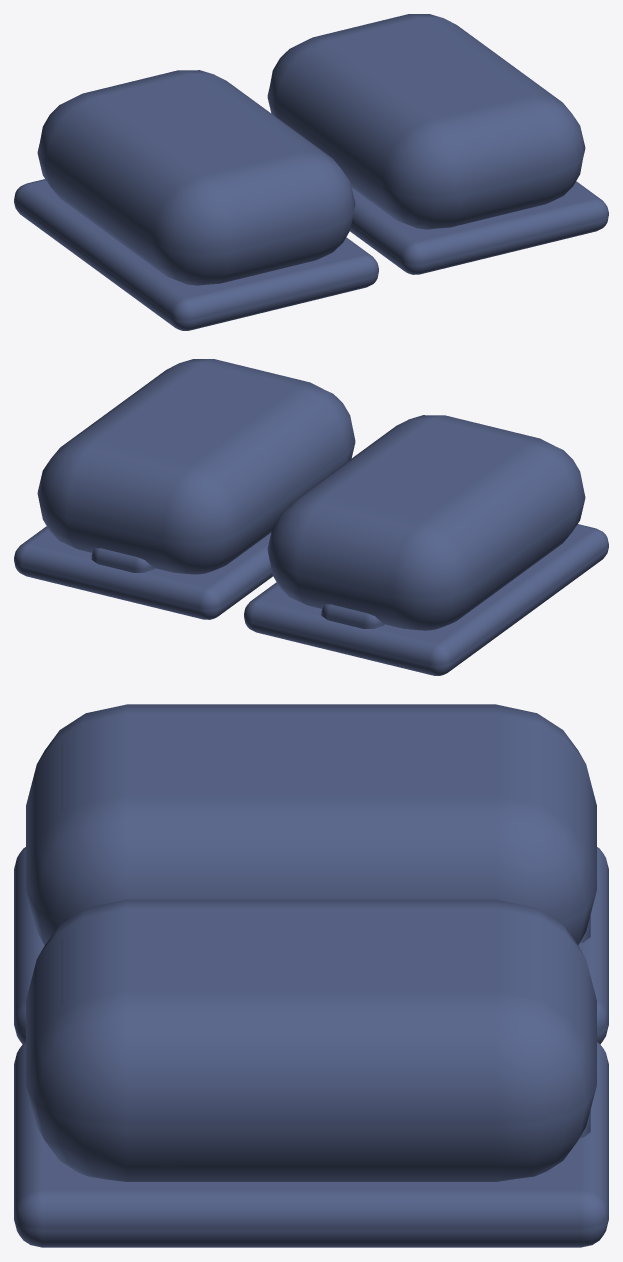
Rendered from ballet_slippers.glb.
The picture shows the model from 3 angles, top to bottom: view 1: azimuth 30°, elevation 25°; view 2: azimuth 150°, elevation 25°; view 3: azimuth 270°, elevation 25°; orthographic projection. The views are drawn at different scales.
Visible parts, largest first — view 1: ballet_slippers_LegL, ballet_slippers_LegR; view 2: ballet_slippers_LegL, ballet_slippers_LegR; view 3: ballet_slippers_LegR, ballet_slippers_LegL.
Boxes of the visible parts, box(x1,y1,x2,y2) form: ballet_slippers_LegL: box(14, 70, 378, 330); ballet_slippers_LegR: box(267, 14, 608, 274); ballet_slippers_LegL: box(244, 415, 608, 675); ballet_slippers_LegR: box(14, 359, 355, 619); ballet_slippers_LegR: box(14, 899, 608, 1247); ballet_slippers_LegL: box(14, 704, 608, 1044).
Size of the model in its own units: 0.36 by 0.1025 by 0.245.
